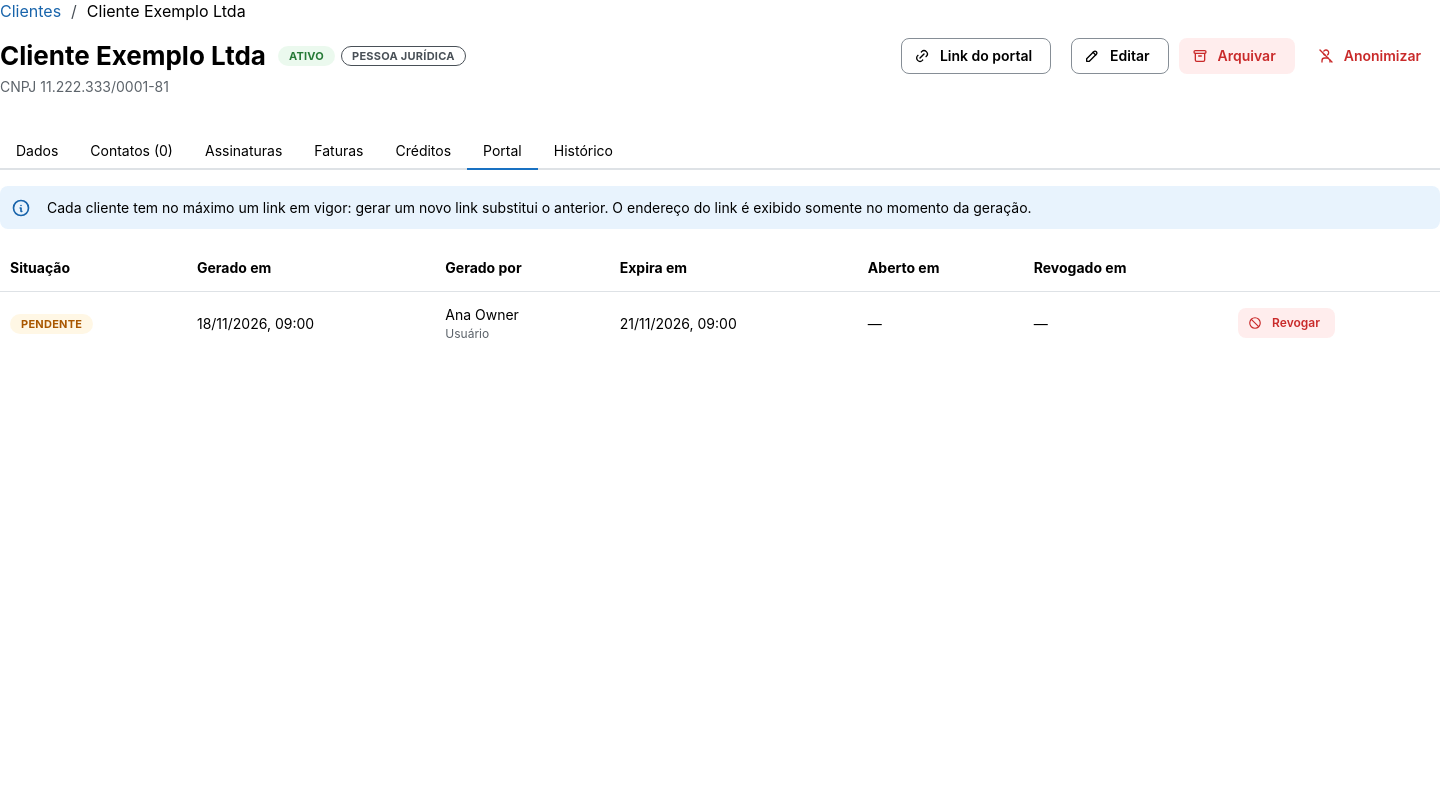
Test case: links do portal na ficha do cliente › link pendente: a confirmação explica que ele não poderá ser aberto
The width and height of the screenshot is (1440, 810).
expect the text "Pendente" is shown: met, box [21,315,82,333]
Click the button "Revogar" at {"x": 1286, "y": 323}, box [1238,308,1335,338]
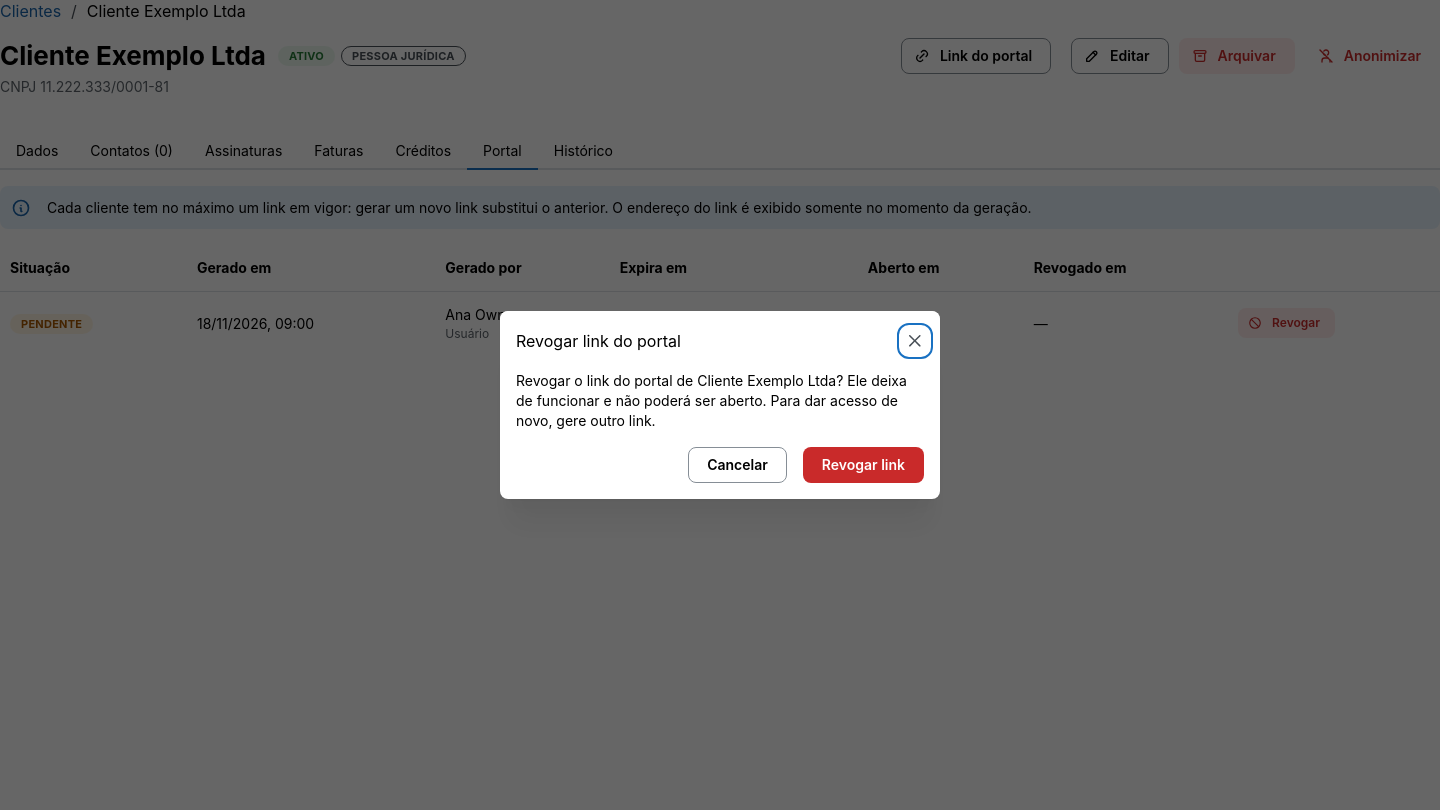
expect the dialog "Revogar link do portal" shows "Ele deixa de funcionar e não poderá ser aberto": met, box [516,372,907,429]
Click the button "Revogar link" at {"x": 863, "y": 465}, box [803,447,924,483]
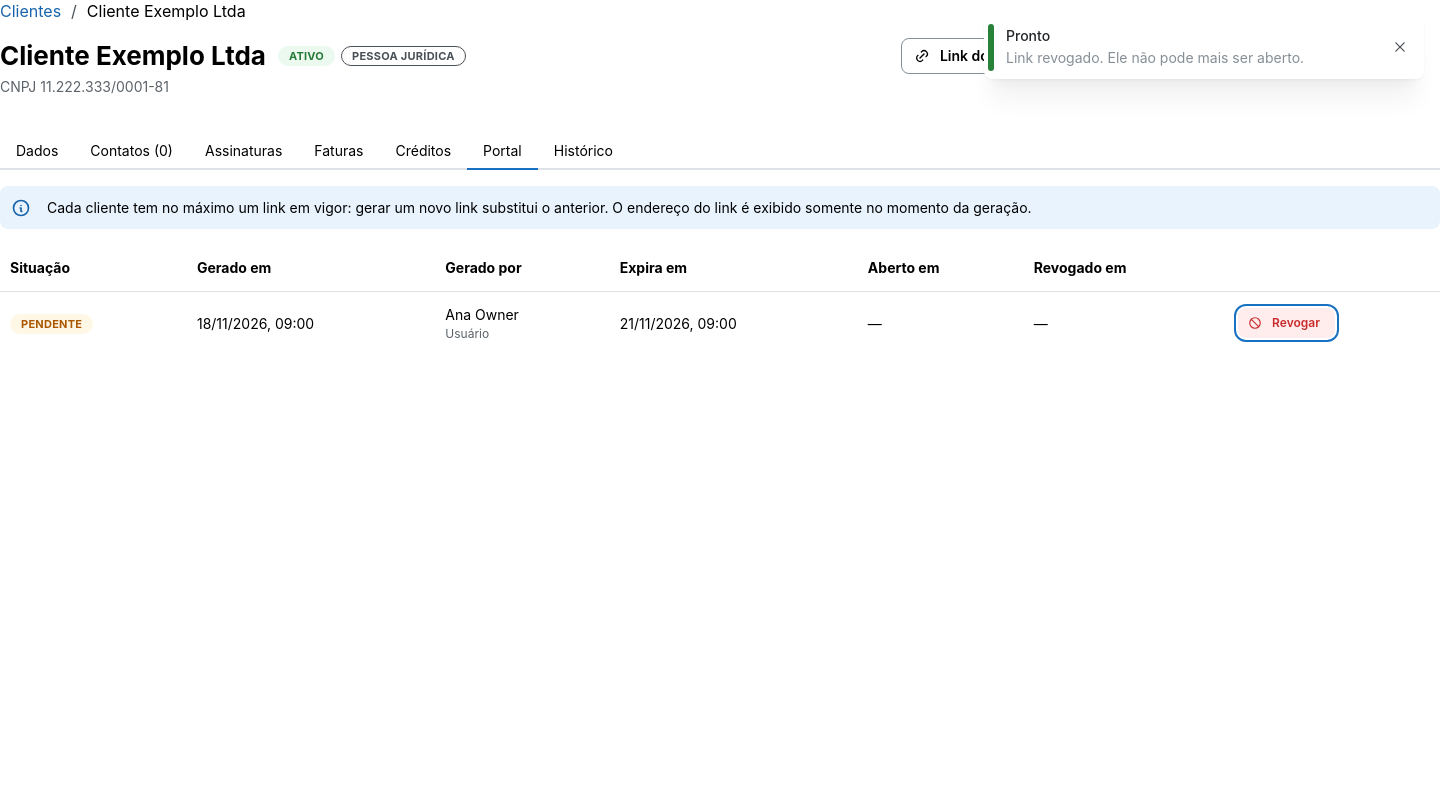
expect the text "Link revogado. Ele não pode mais ser aberto." is shown: met, box [1006,49,1304,66]
